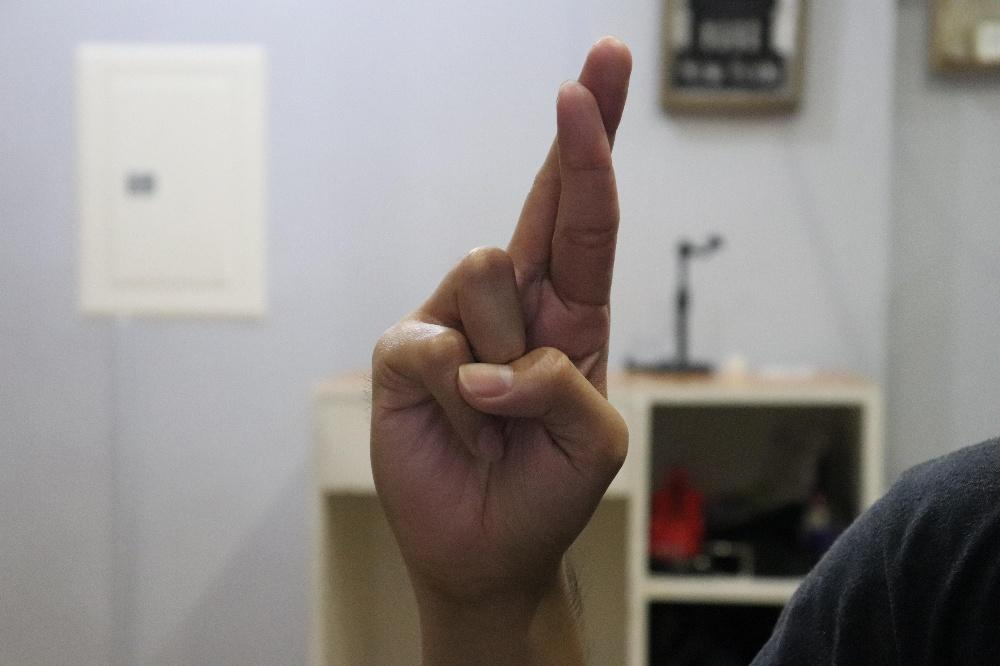r: (367, 34, 633, 585)
